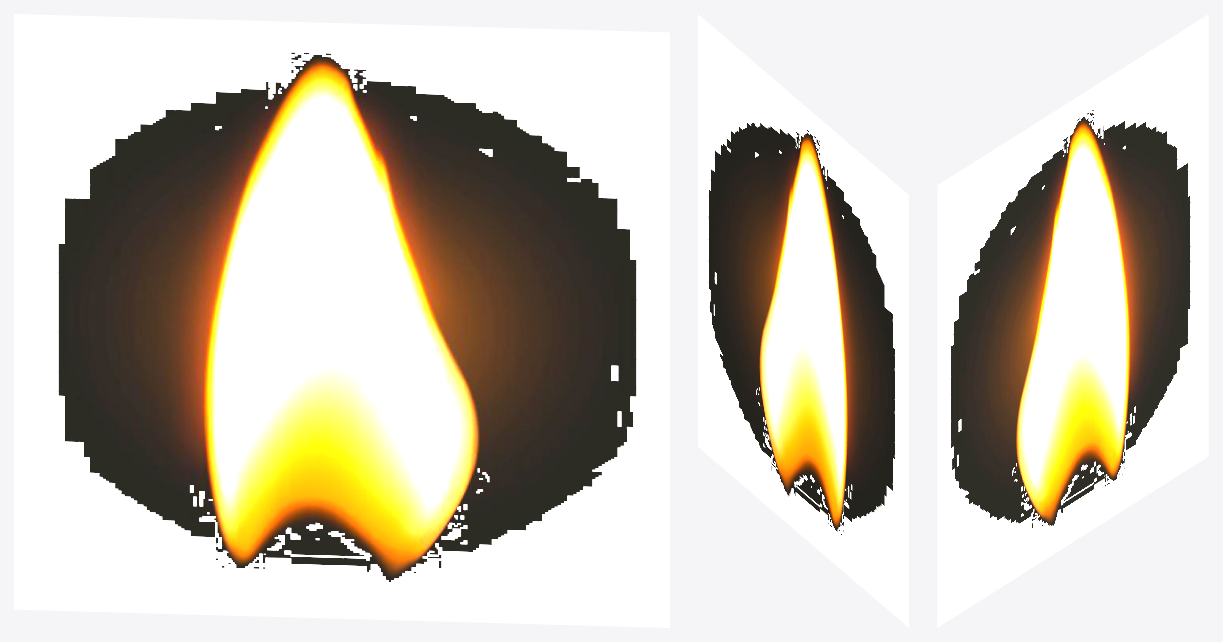
3 renders of one model, left to right at view 1: azimuth 30°, elevation 25°; view 2: azimuth 150°, elevation 25°; view 3: azimuth 270°, elevation 25°, orthographic. The views are drawn at different scales.
Parts seen in each view (by area): view 1: _113; view 2: _113; view 3: _113.
Part boxes in pixels (bbox=[...]): _113: bbox=[14, 14, 669, 627]; _113: bbox=[698, 14, 908, 627]; _113: bbox=[937, 14, 1208, 627].
Size of the model in its own units: 9.31 by 11.21 by 6.23.
